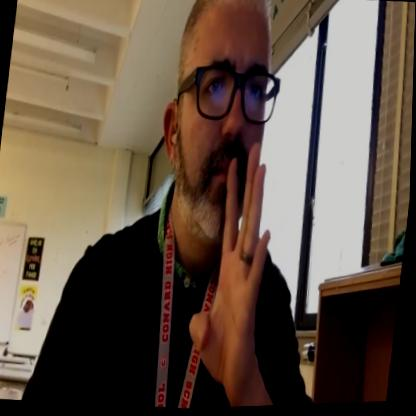Talk: (132, 0, 312, 412)
